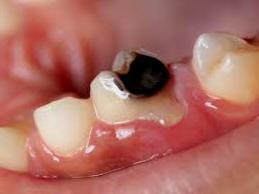Caries: (91, 41, 182, 123)
